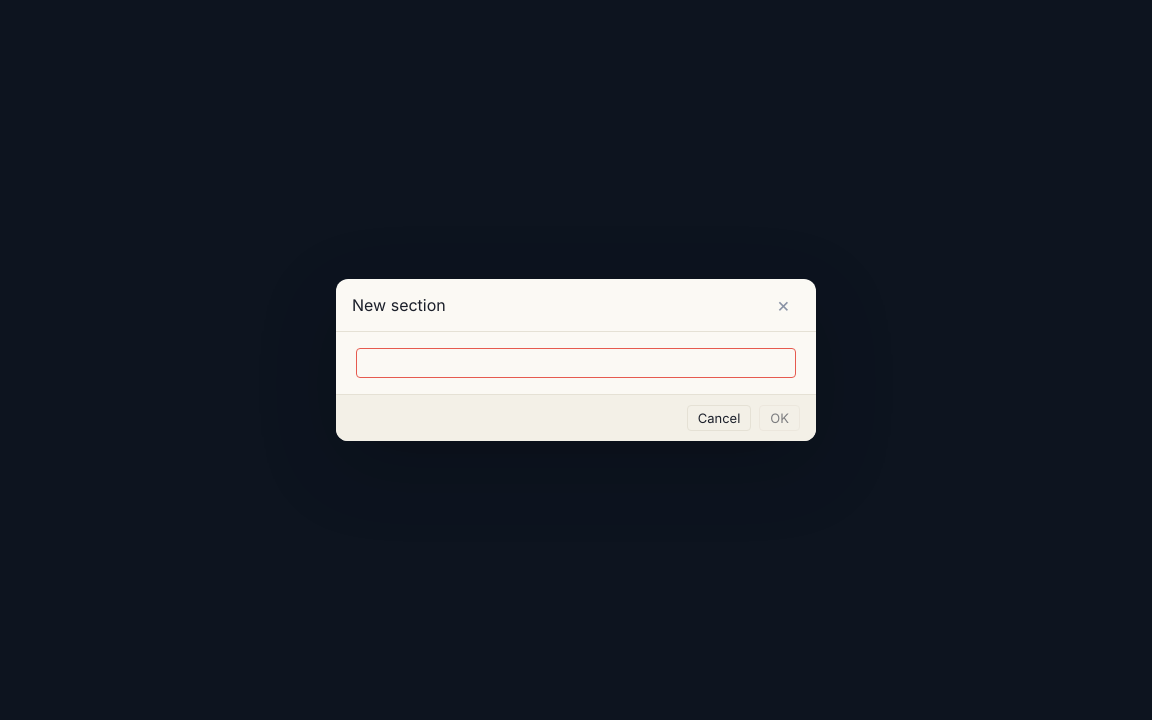
Test case: PromptModal › surfaces errors inline without closing on failure
The width and height of the screenshot is (1152, 720).
In the field: point(576, 363) [356,348,796,378], type "X"
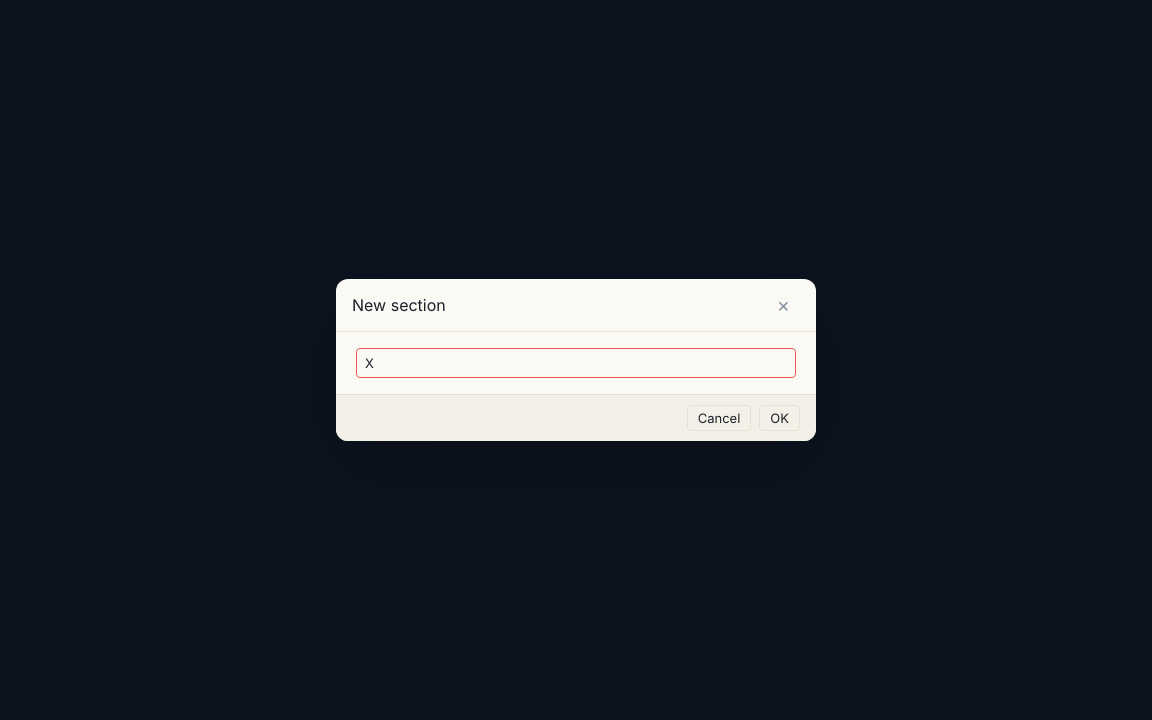
Press Enter
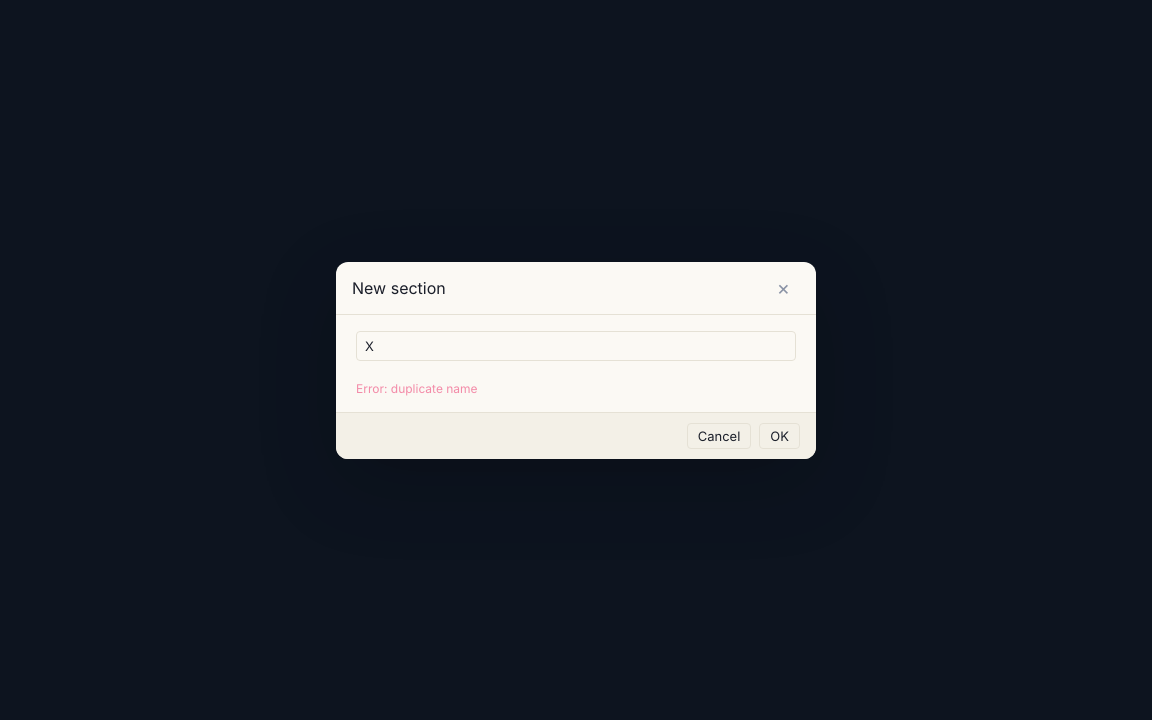
Expected: the text "Error: duplicate name" is shown, [356,380,478,396]
